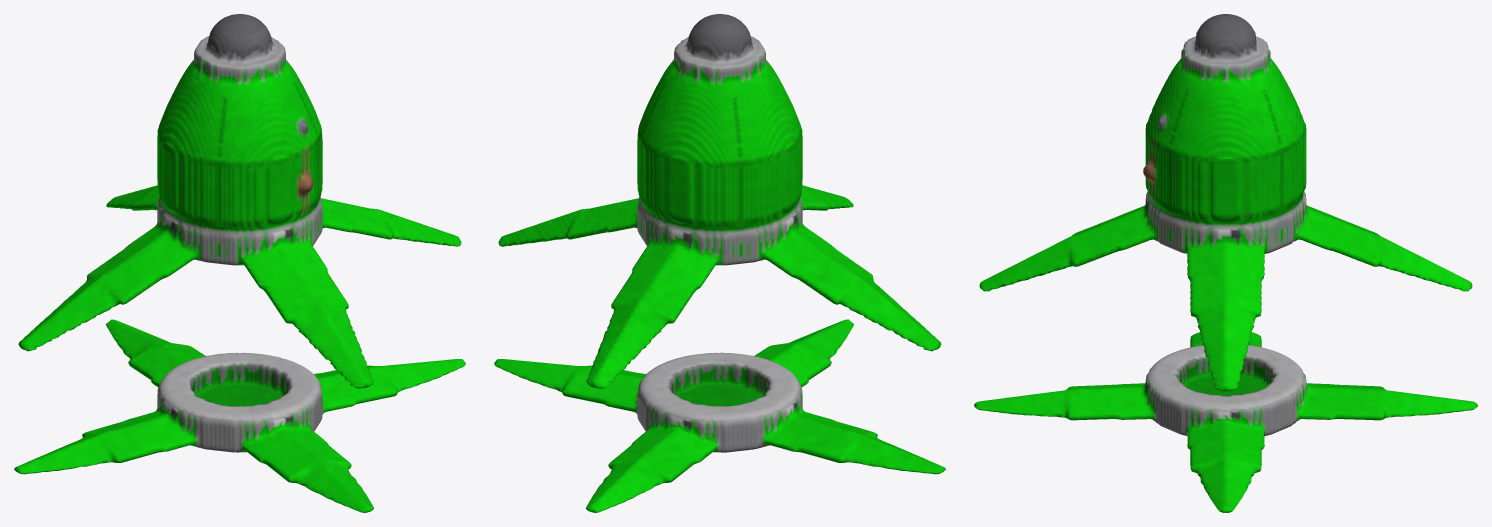
Rendered from limpet-mine.glb.
3 renders of one model, left to right at view 1: azimuth 30°, elevation 25°; view 2: azimuth 150°, elevation 25°; view 3: azimuth 270°, elevation 25°, orthographic. The views are drawn at different scales.
Parts seen in each view (by area): view 1: limpet-drone, limpet-mine; view 2: limpet-drone, limpet-mine; view 3: limpet-drone, limpet-mine.
Part boxes in pixels (bbox=[...]): limpet-drone: bbox=[18, 14, 461, 388]; limpet-mine: bbox=[14, 319, 465, 512]; limpet-drone: bbox=[498, 14, 941, 388]; limpet-mine: bbox=[494, 319, 945, 512]; limpet-drone: bbox=[979, 14, 1472, 391]; limpet-mine: bbox=[974, 332, 1477, 512].
Bounding box in the file's own units: 0.9384 × 0.8037 × 0.9384.
